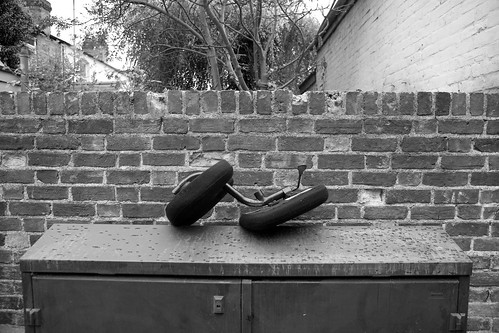building: (318, 1, 499, 87), (1, 1, 132, 90)
trash: (118, 144, 342, 245)
tree: (105, 1, 314, 89)
